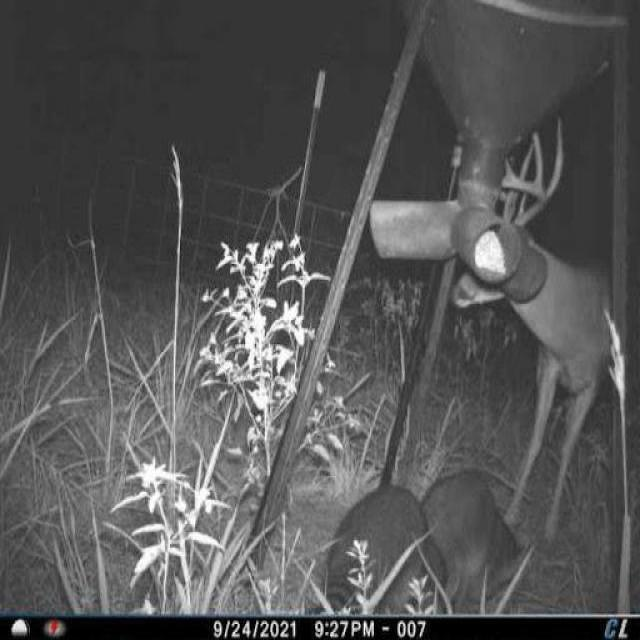deer: (456, 104, 612, 548)
